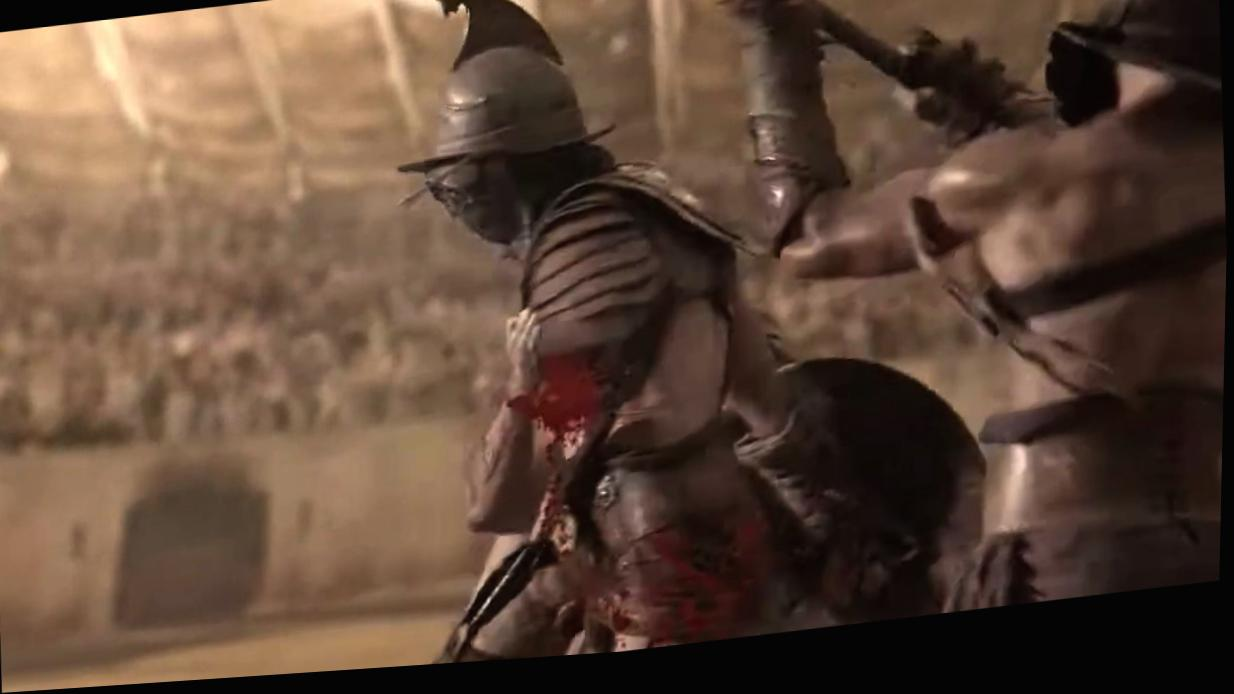Fire: (589, 511, 775, 661), (509, 357, 613, 560)
